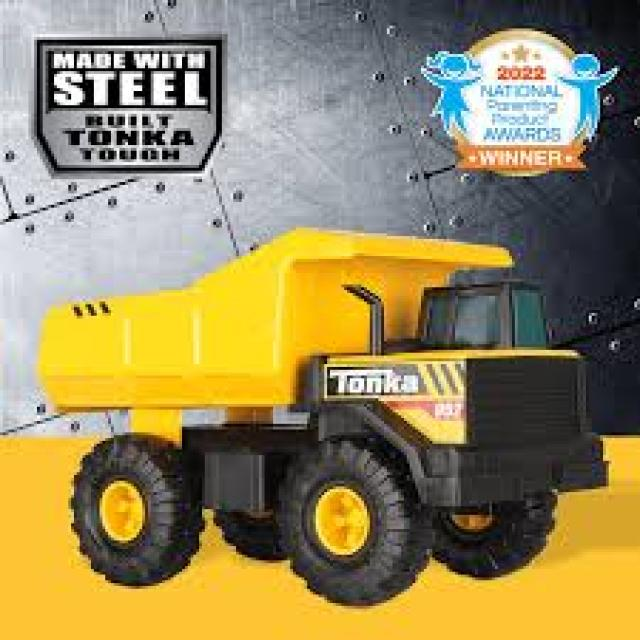dump_truck: (41, 225, 610, 601)
